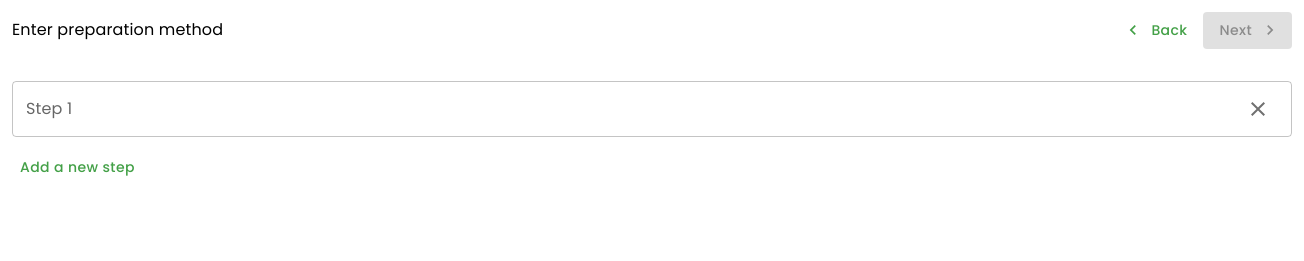
Scenario: PreparationMethod Component › should add a new preparation step field when "Add a new step" button is clicked
Click the button "Add a new step" at (77, 167), box [12,148,143,185]
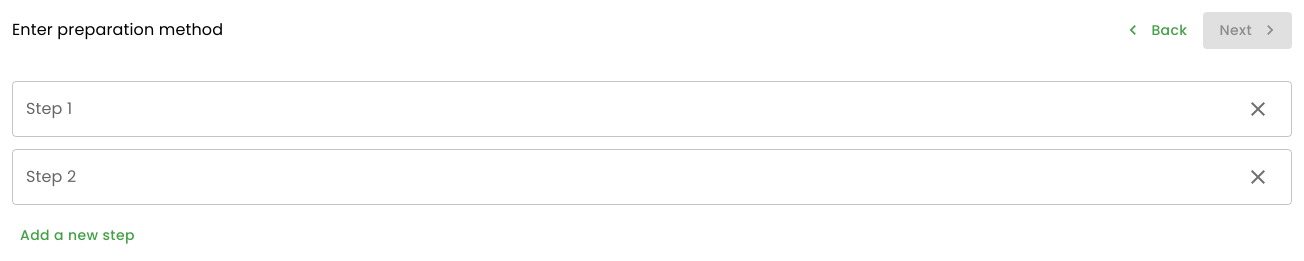
Expected: the field labelled "Step 2" is shown, [12,148,1238,204]
